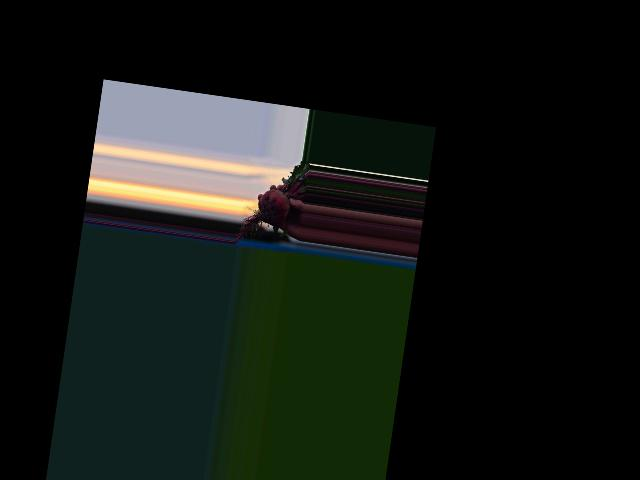beet: (234, 152, 310, 252)
